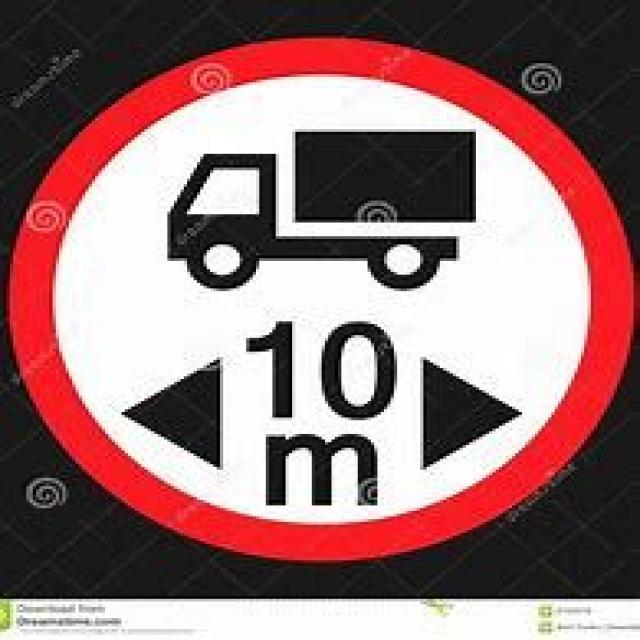LENGTH_LIMIT: (3, 39, 637, 563)
